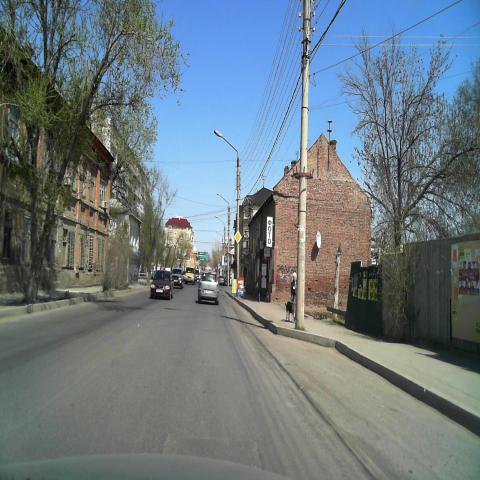2_1: (234, 230, 242, 244)
